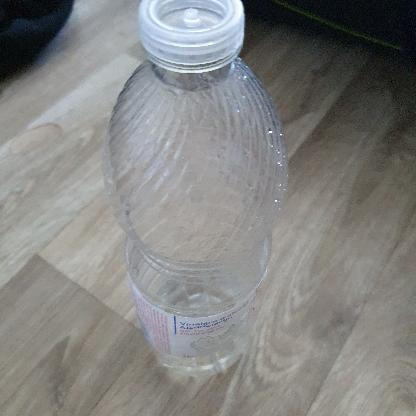Plastic Bottle: (102, 0, 288, 374)
